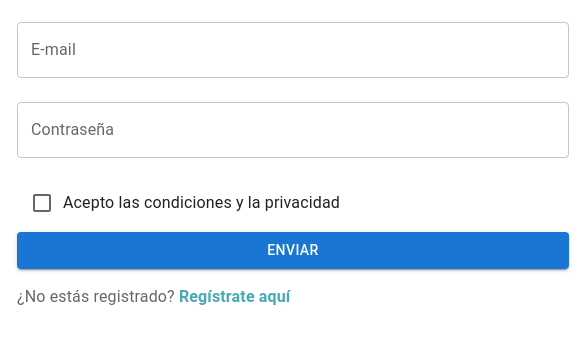
LoginInputs › displays general error message when login fails
This screenshot has width=587, height=342.
Type "test@example.com" into the field labelled "E-mail" at [293, 50], box x1=17 y1=22 x2=569 y2=78
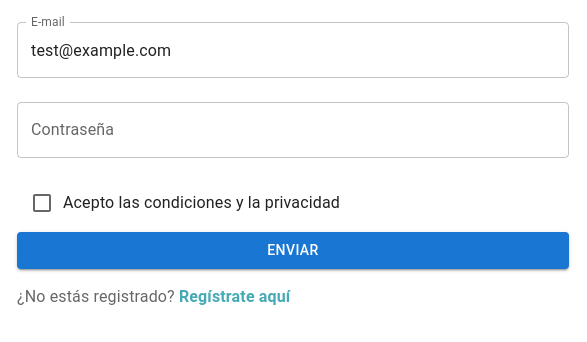
Type "password" into the password field labelled "Contraseña" at [293, 130], box x1=17 y1=102 x2=569 y2=158
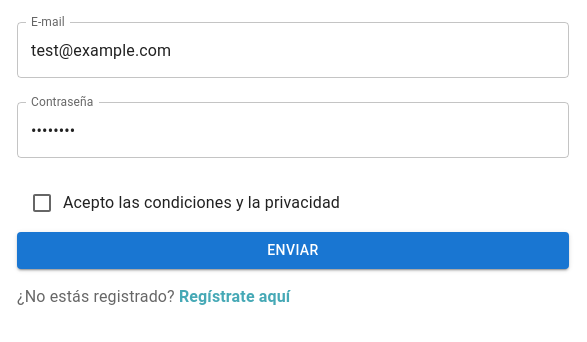
Click the checkbox labelled "Acepto las condiciones y la privacidad" at [185, 203], box x1=30 y1=191 x2=340 y2=215
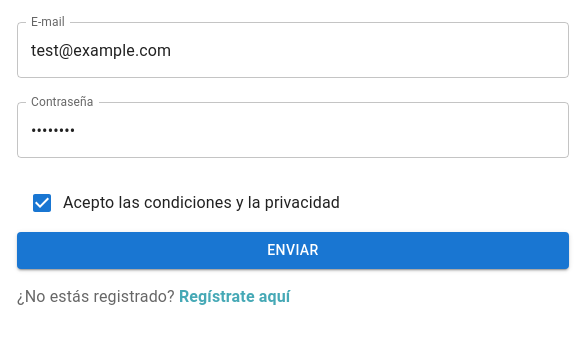
Click the button "Enviar" at [293, 250], box x1=17 y1=232 x2=569 y2=268
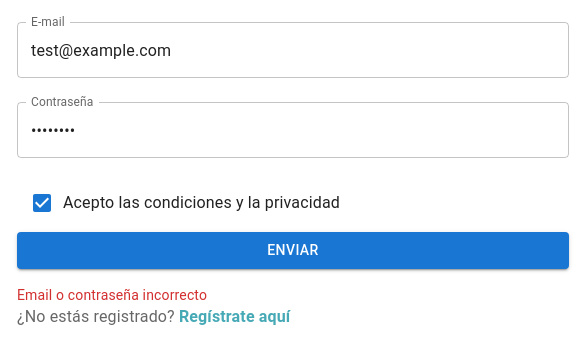
Expected: the text "Email o contraseña incorrecto" is shown, x1=17 y1=286 x2=207 y2=302
